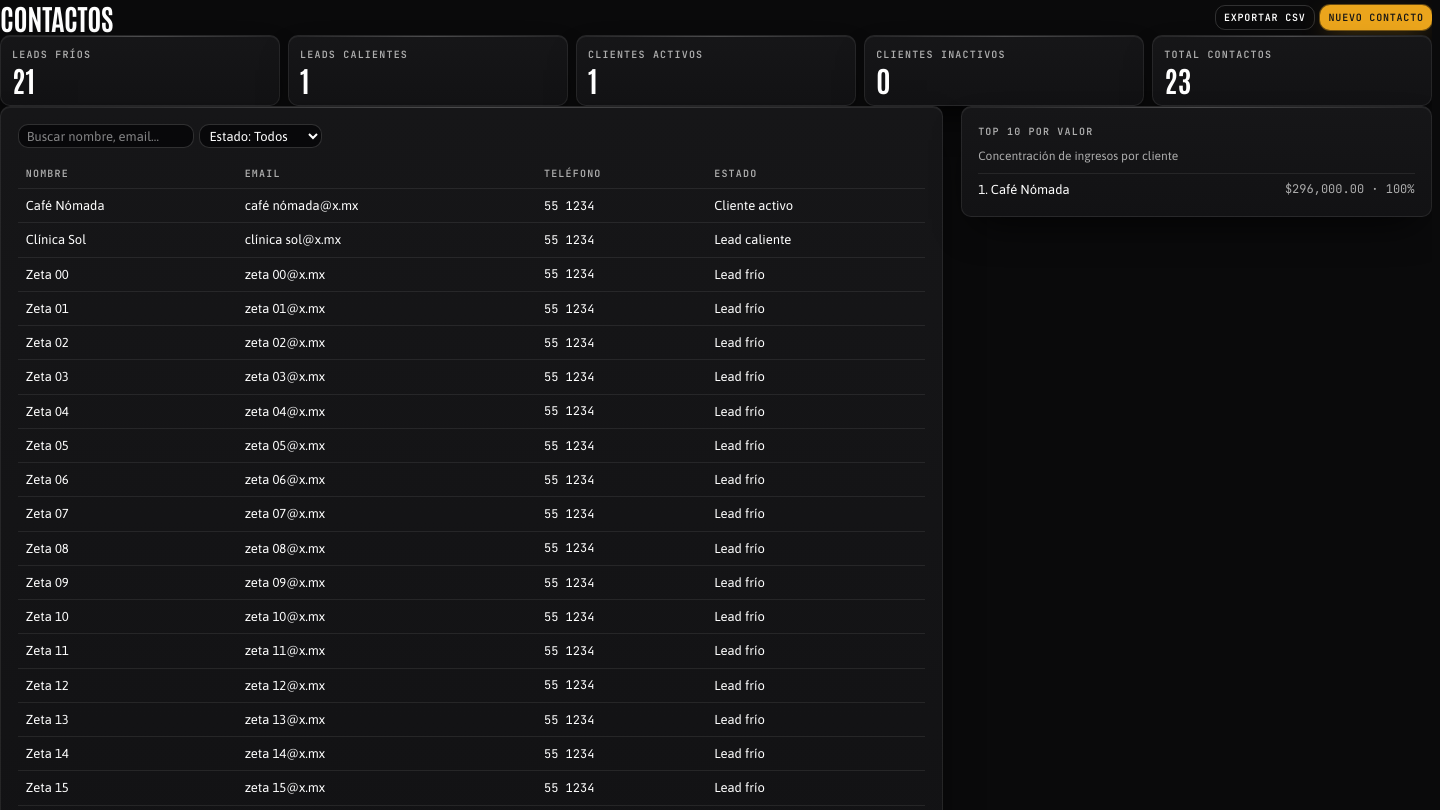
Test case: Contactos › keeps the form open when main refuses it
Step 1. Click the button "Nuevo contacto" → (1376, 18), box x1=1320 y1=5 x2=1432 y2=30
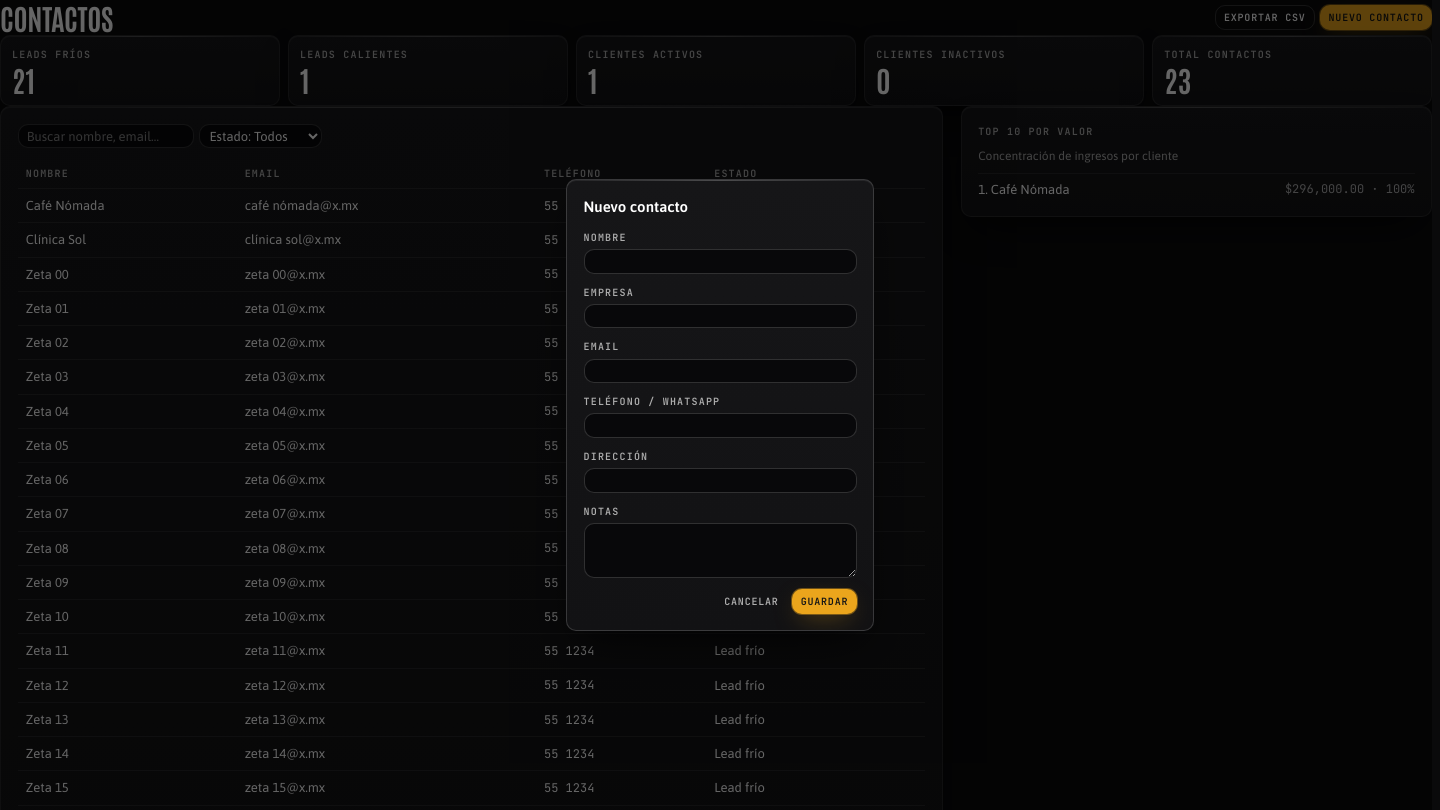
Step 2. Type "cafe nomada" into the field labelled "Nombre" → (720, 261), box x1=584 y1=249 x2=856 y2=274
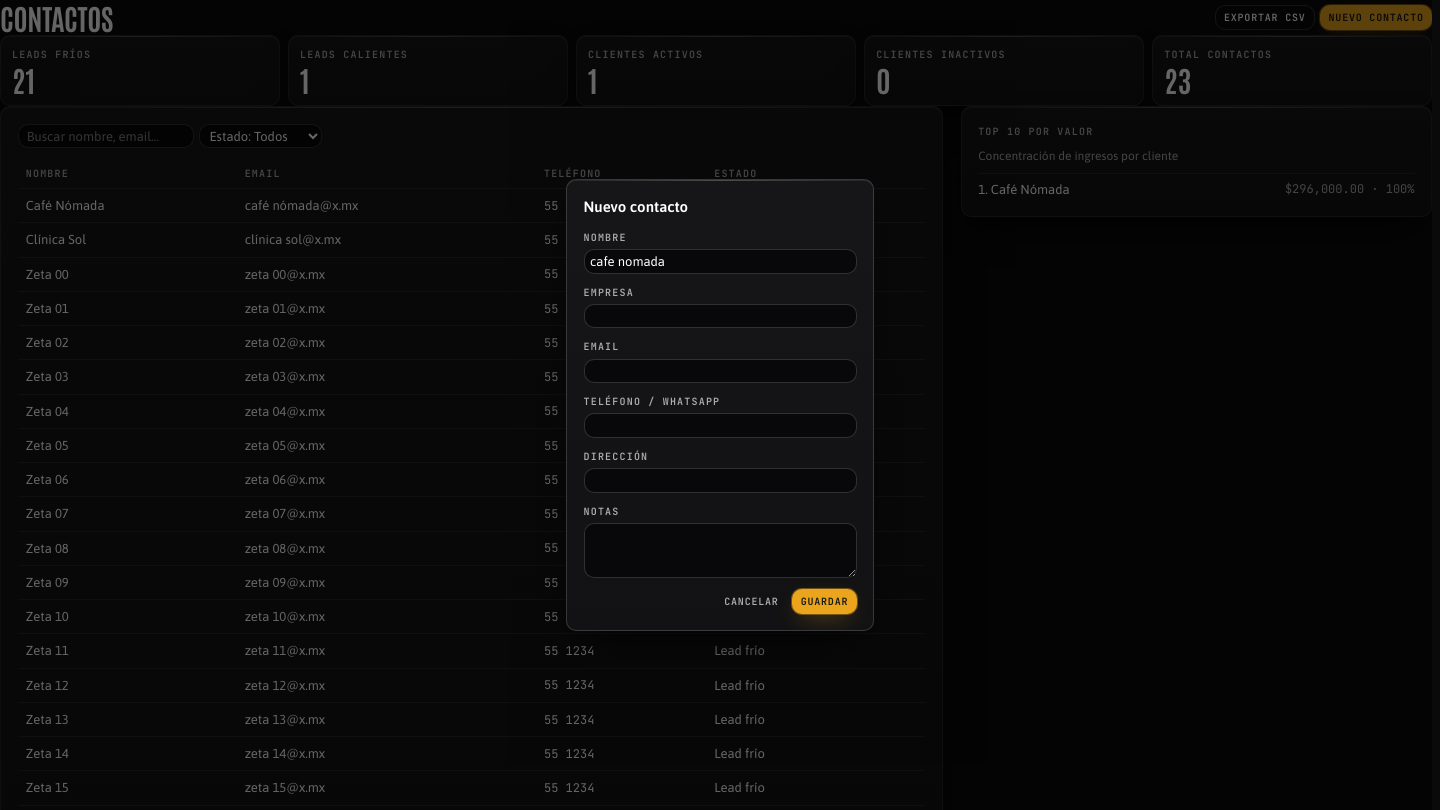
Step 3. Click the button "Guardar" → (824, 602), box x1=792 y1=589 x2=856 y2=614
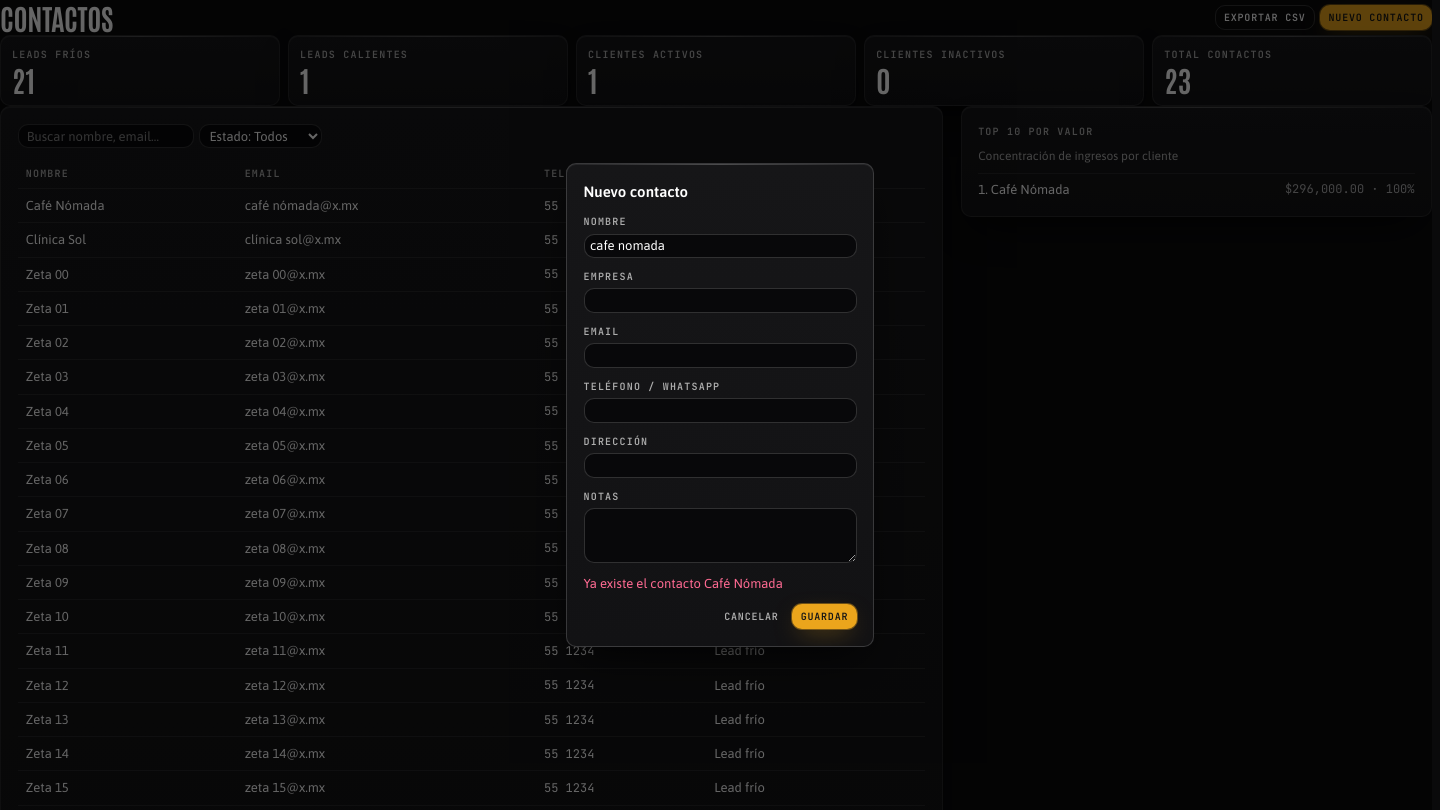
Result: the message reads "Ya existe el contacto Café Nómada" at x1=584 y1=576 x2=783 y2=591
